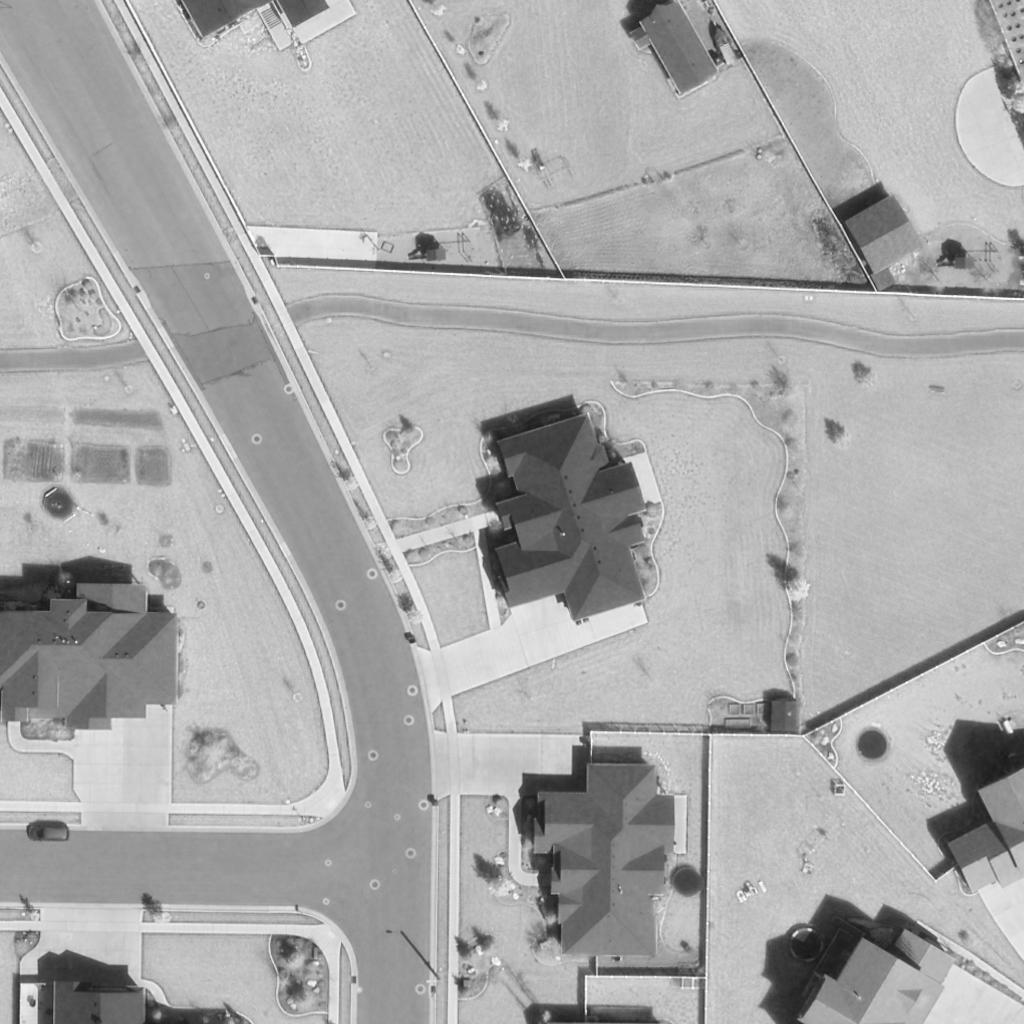vehicle: (26, 824, 70, 842)
